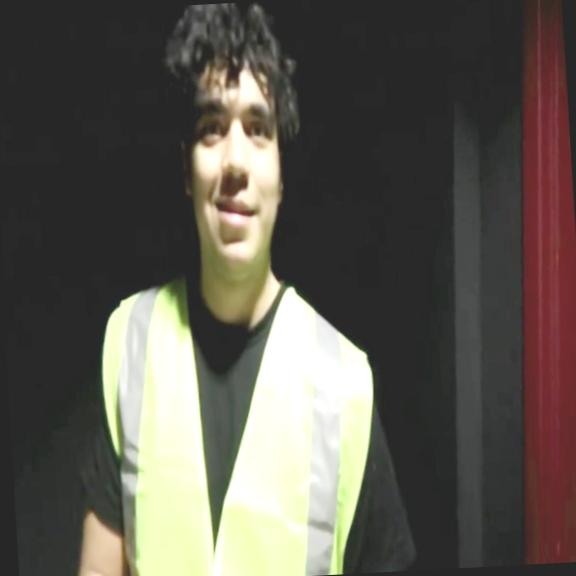safety_vest: (96, 264, 387, 576)
